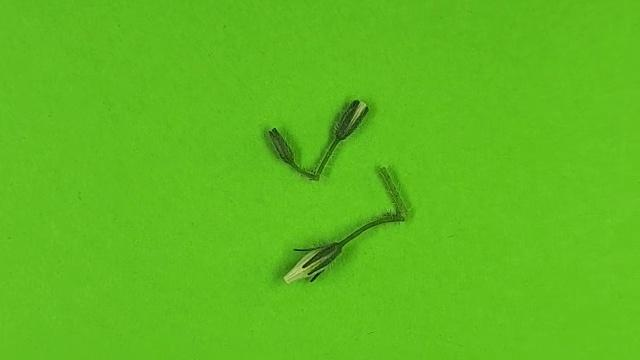Flower Bud: (283, 242, 342, 285), (334, 99, 369, 139), (268, 127, 296, 164)
